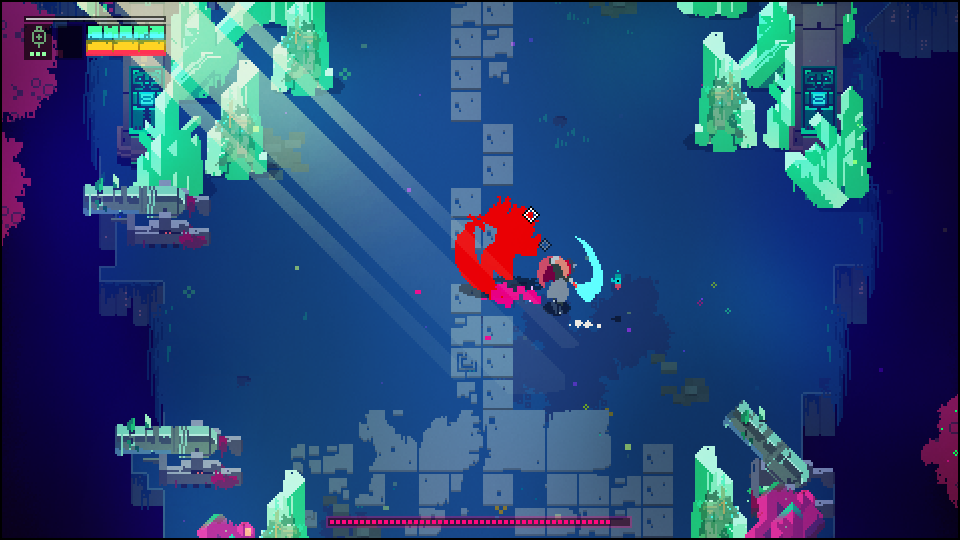hanged_man: (456, 204, 536, 294)
player: (538, 235, 603, 316)
